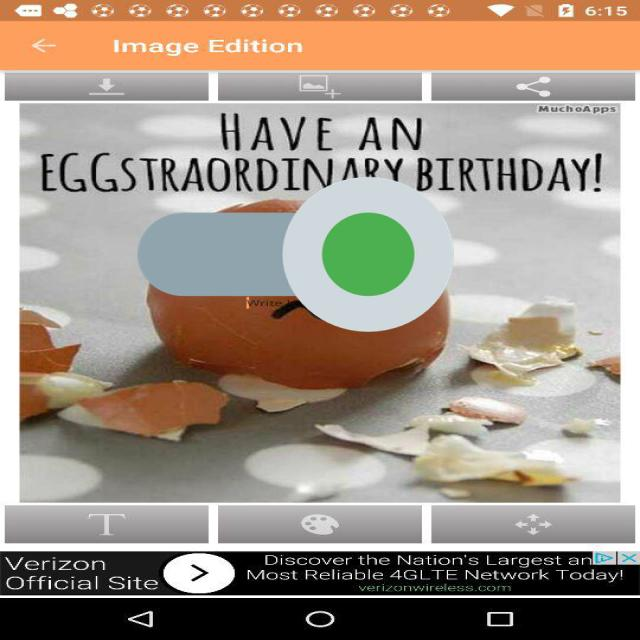social proof: (137, 111, 454, 398)
